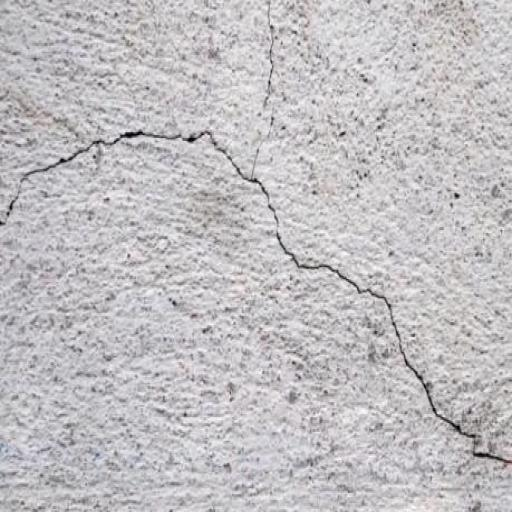spalling: (2, 122, 510, 480)
